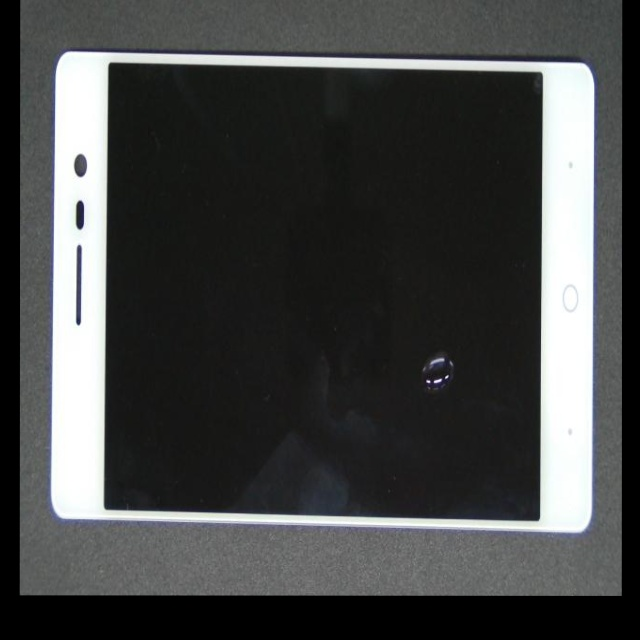oil: (248, 172, 622, 536)
